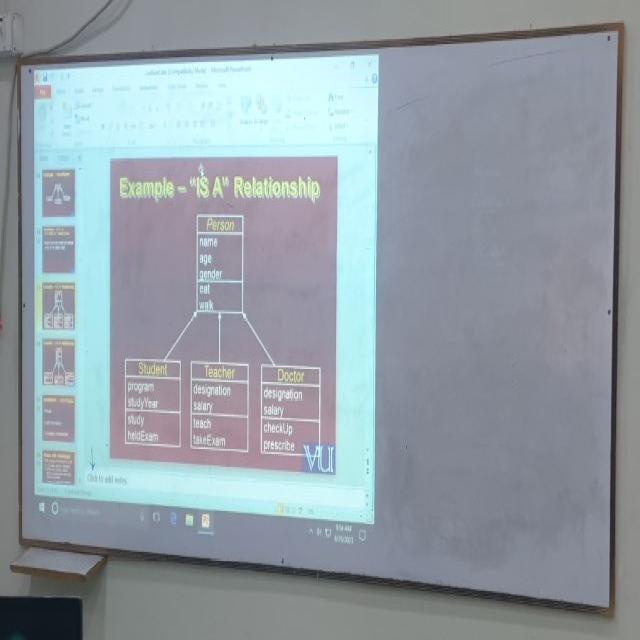Slide: (33, 49, 378, 547)
White-board: (18, 28, 619, 610)
